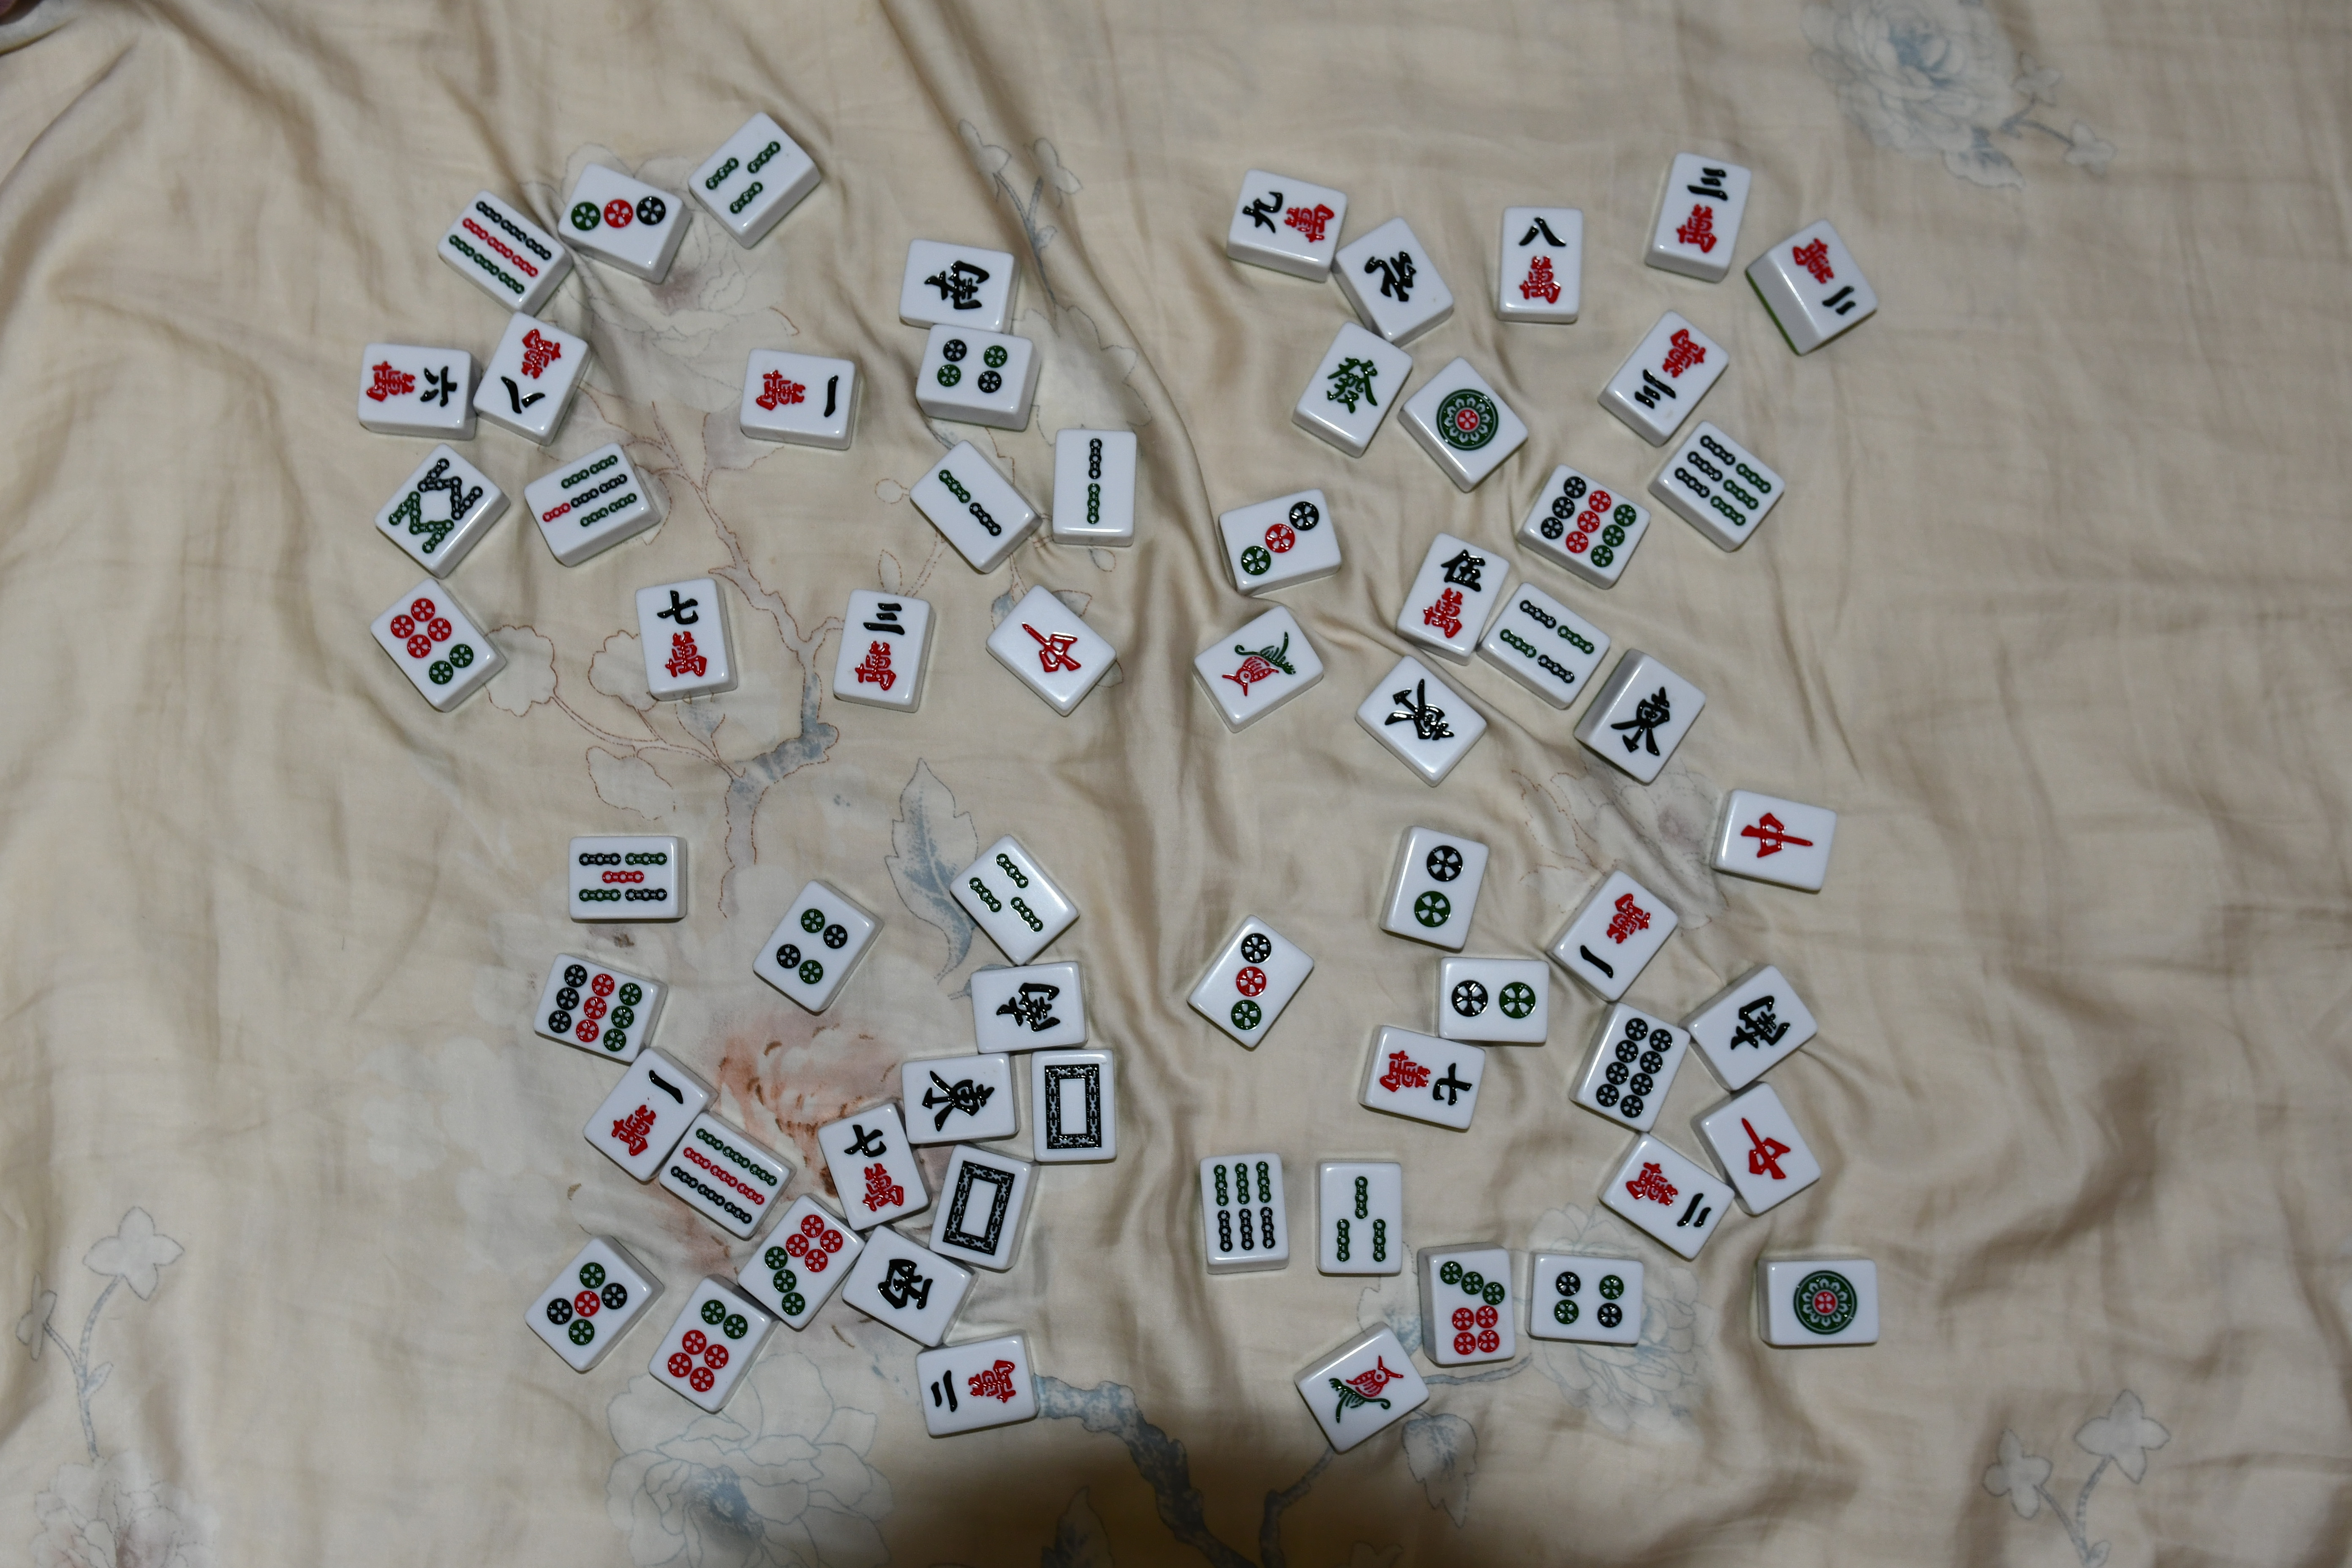b-1: (1218, 633, 1299, 700)
c-1: (600, 1066, 686, 1159), (1579, 891, 1654, 980), (1323, 1351, 1409, 1428), (756, 366, 847, 425)
c-2: (933, 462, 1012, 548), (1626, 1160, 1713, 1237), (1783, 235, 1860, 320), (926, 1356, 1024, 1419), (1069, 438, 1115, 527)
c-3: (1626, 324, 1712, 418), (963, 851, 1050, 938), (1663, 159, 1736, 252), (704, 140, 788, 217), (849, 597, 912, 698), (1327, 1172, 1395, 1265)
c-4: (1502, 600, 1596, 690)
c-5: (1414, 549, 1491, 646), (572, 842, 670, 906)
c-6: (1673, 432, 1773, 529), (1211, 1155, 1281, 1257), (364, 359, 459, 415)
c-7: (541, 453, 641, 537), (835, 1118, 908, 1215), (644, 584, 712, 682), (1381, 1046, 1474, 1110)
c-8: (385, 450, 485, 558), (494, 327, 567, 418), (1514, 215, 1568, 306)
c-9: (443, 198, 555, 299), (672, 1125, 780, 1229), (1239, 187, 1337, 249)
d-1: (1780, 1265, 1862, 1344), (1432, 387, 1502, 453)
d-2: (1446, 975, 1542, 1029), (1407, 842, 1467, 929)
d-3: (1234, 495, 1321, 576), (1223, 931, 1283, 1031), (569, 191, 672, 243)
d-4: (775, 901, 851, 991), (1544, 1264, 1629, 1332), (933, 333, 1015, 399)
d-5: (535, 1258, 630, 1351)
d-6: (663, 1295, 751, 1400), (387, 595, 478, 691)
d-7: (765, 1215, 847, 1323), (1433, 1258, 1507, 1356)
d-8: (1594, 1019, 1677, 1122)
d-9: (1538, 478, 1647, 574), (541, 963, 644, 1055)
honors-east: (1386, 672, 1456, 749), (919, 1064, 996, 1131), (1612, 684, 1677, 761)
honors-green: (1323, 352, 1383, 422)
honors-north: (1358, 247, 1425, 306)
honors-red: (1729, 1103, 1799, 1190), (1729, 807, 1820, 868), (1019, 616, 1085, 676)
honors-south: (1717, 985, 1796, 1061), (982, 973, 1069, 1038), (917, 254, 992, 311)
honors-west: (873, 1253, 938, 1319)
honors-white: (938, 1159, 1020, 1258), (1038, 1061, 1108, 1159)
